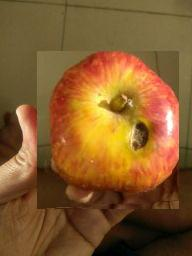Apple Semirotten: (37, 52, 179, 210)
